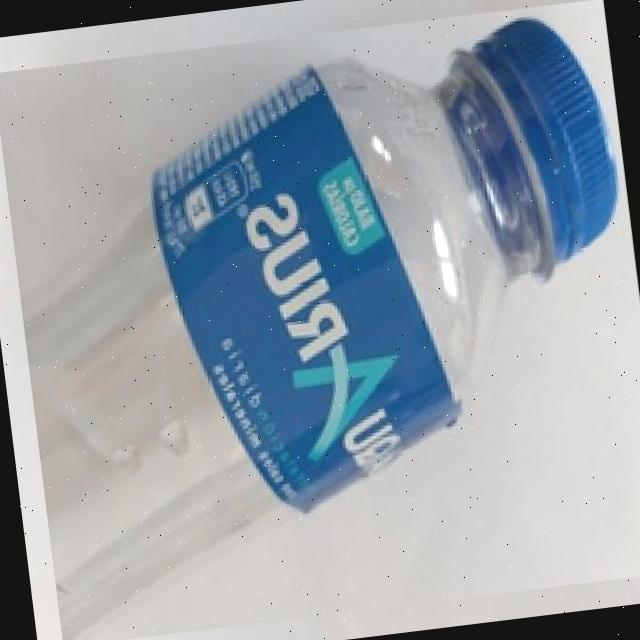bottle: (0, 0, 640, 640)
cap: (442, 18, 622, 281)
label: (126, 56, 495, 502)
